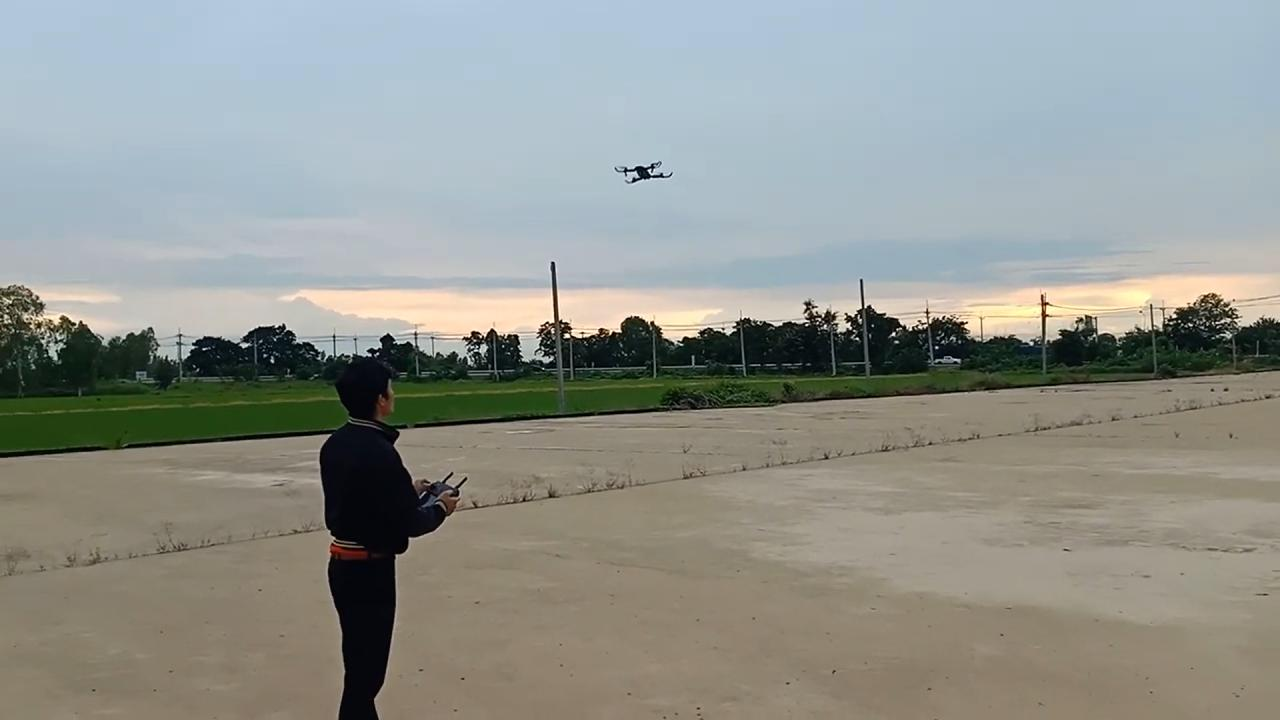Drone: (606, 150, 682, 196)
